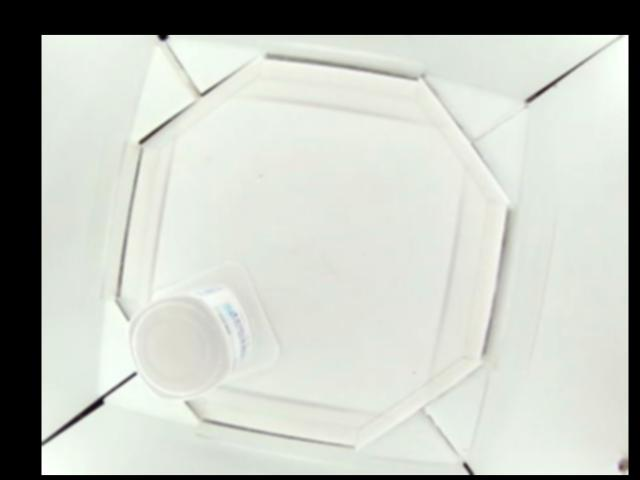Cup: (127, 258, 279, 398)
